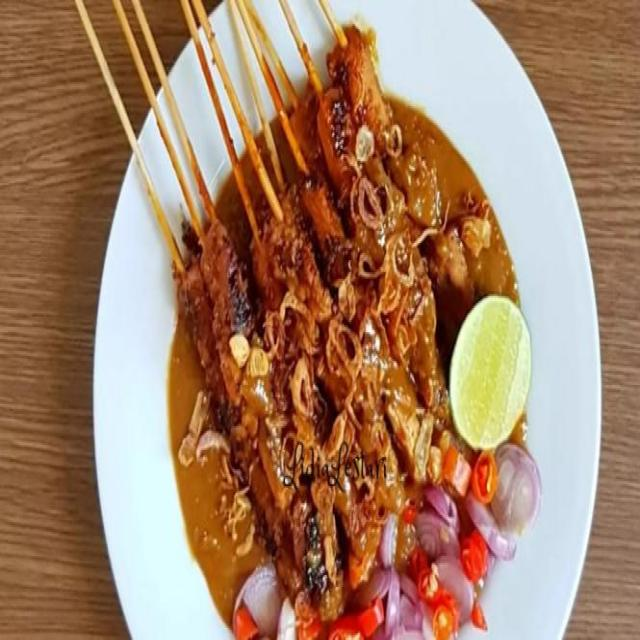Sate: (65, 0, 452, 572)
